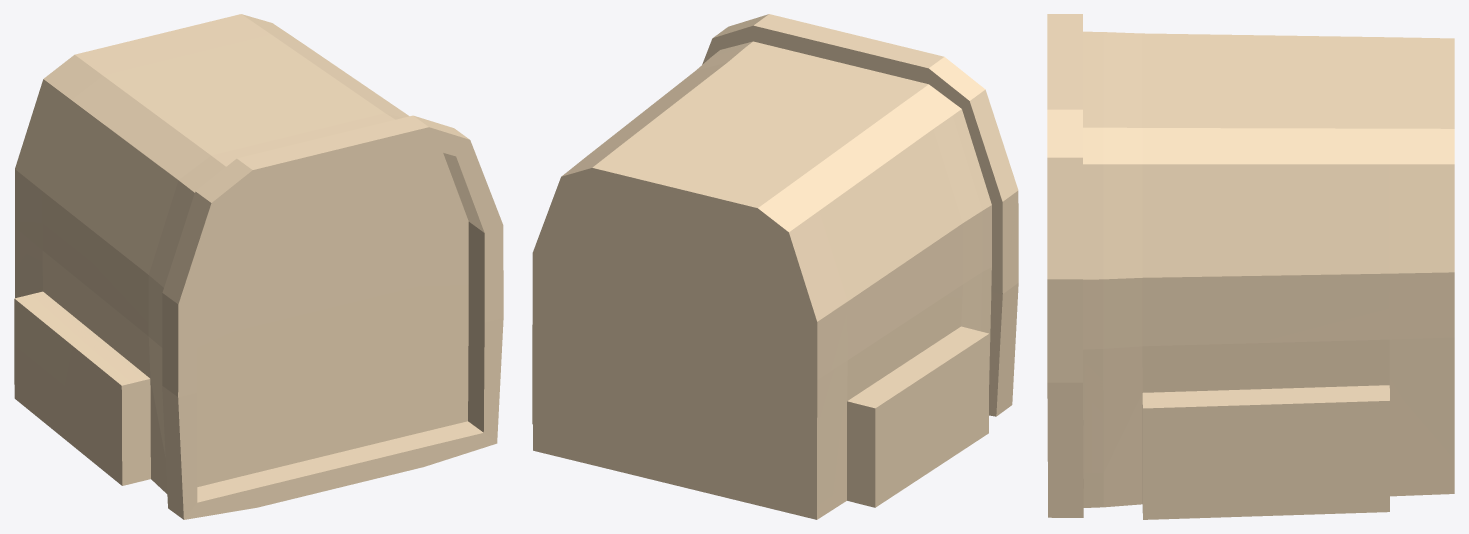
3 renders of one model, left to right at view 1: azimuth 30°, elevation 25°; view 2: azimuth 150°, elevation 25°; view 3: azimuth 270°, elevation 25°, orthographic. The views are drawn at different scales.
Parts seen in each view (by area): view 1: Cube.006; view 2: Cube.006; view 3: Cube.006.
Part boxes in pixels (x1=…): Cube.006: x1=14, y1=14, x2=503, y2=519; Cube.006: x1=532, y1=14, x2=1018, y2=519; Cube.006: x1=1047, y1=14, x2=1454, y2=519.
Size of the model in its own units: 325 by 299 by 293.
